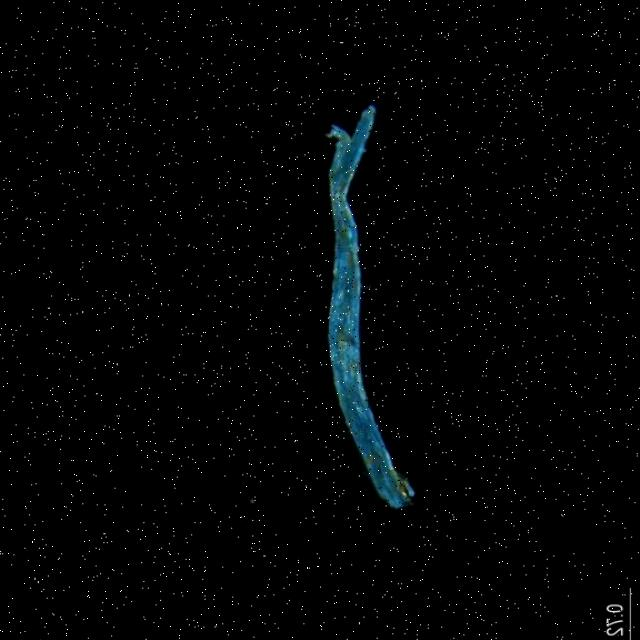Fibre: (322, 92, 432, 522)
